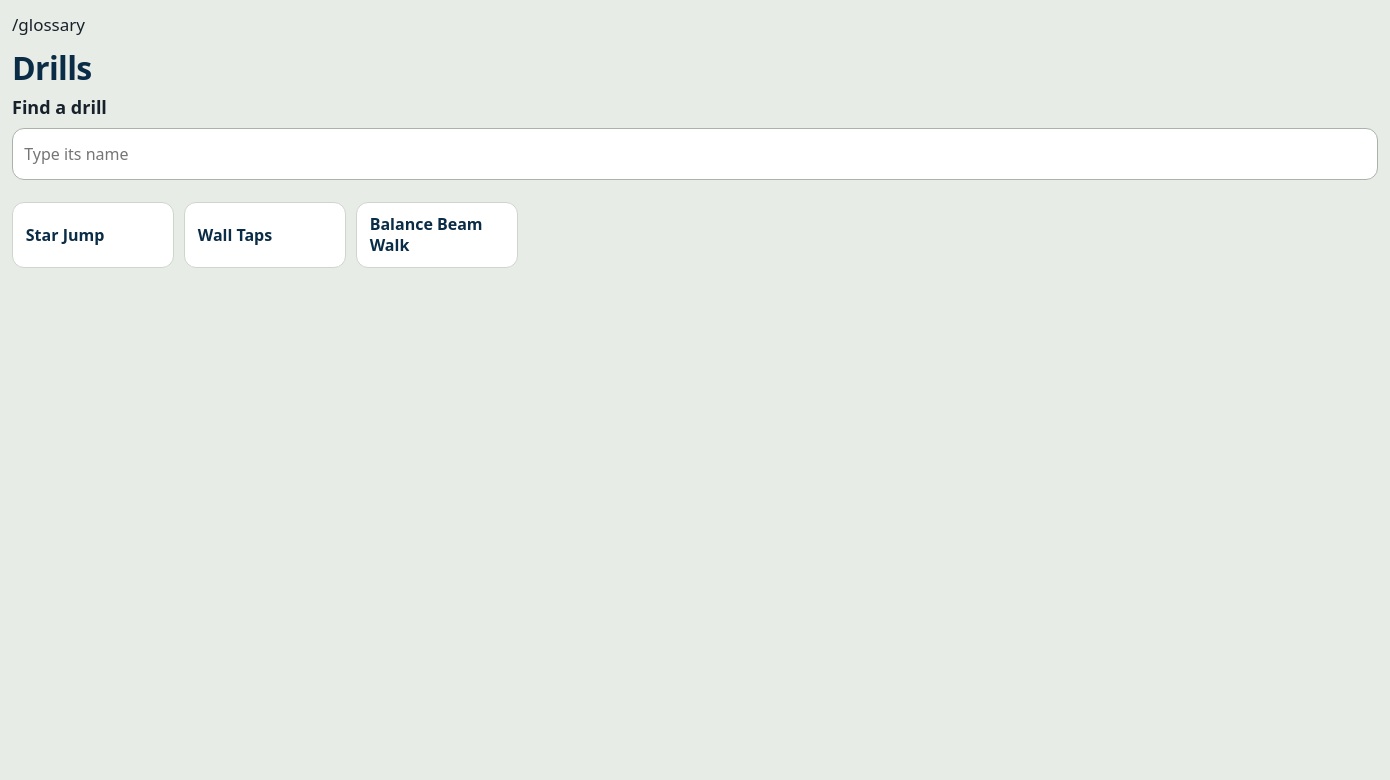
the drill glossary › shows a drill's area
Click the button "Wall Taps" at (265, 235), box [184,202,346,268]
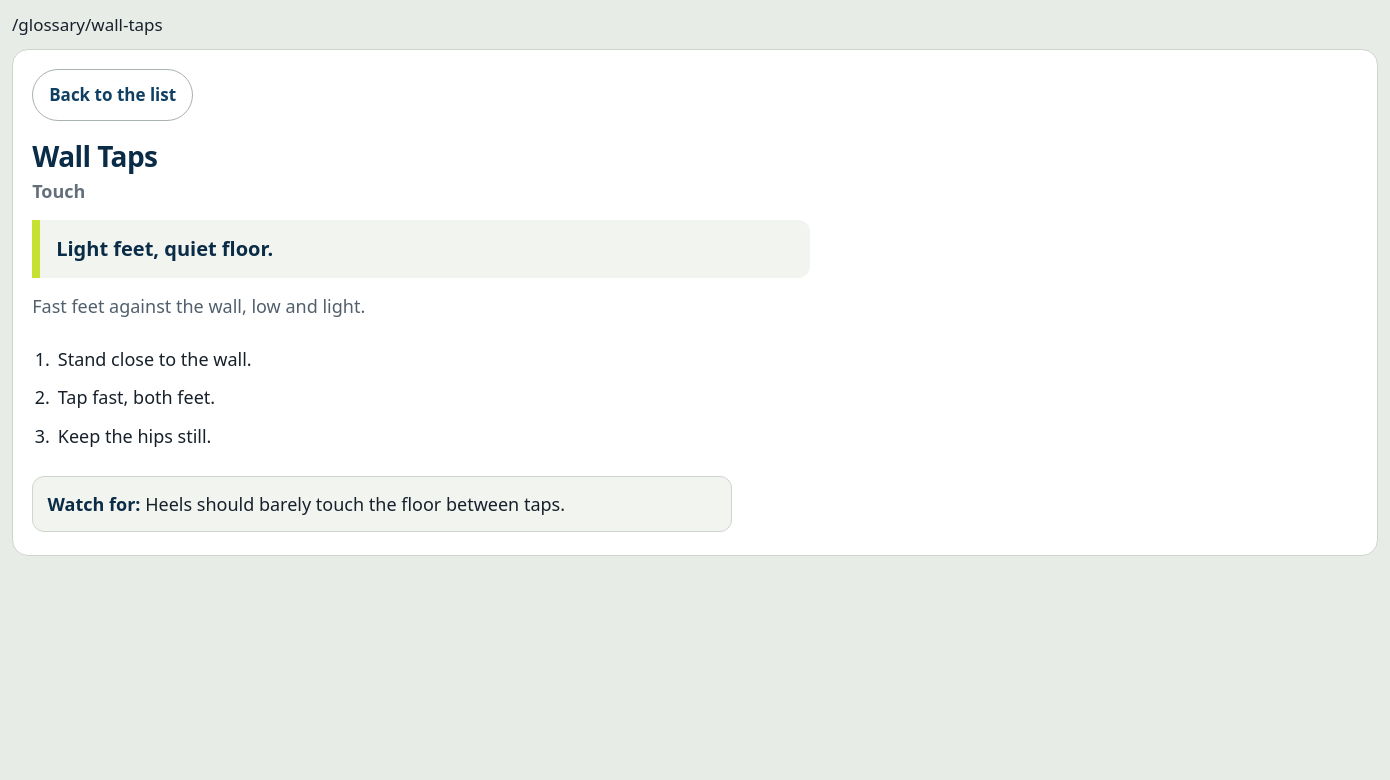
expect the text "Touch" is shown: met, box [32,179,85,203]
